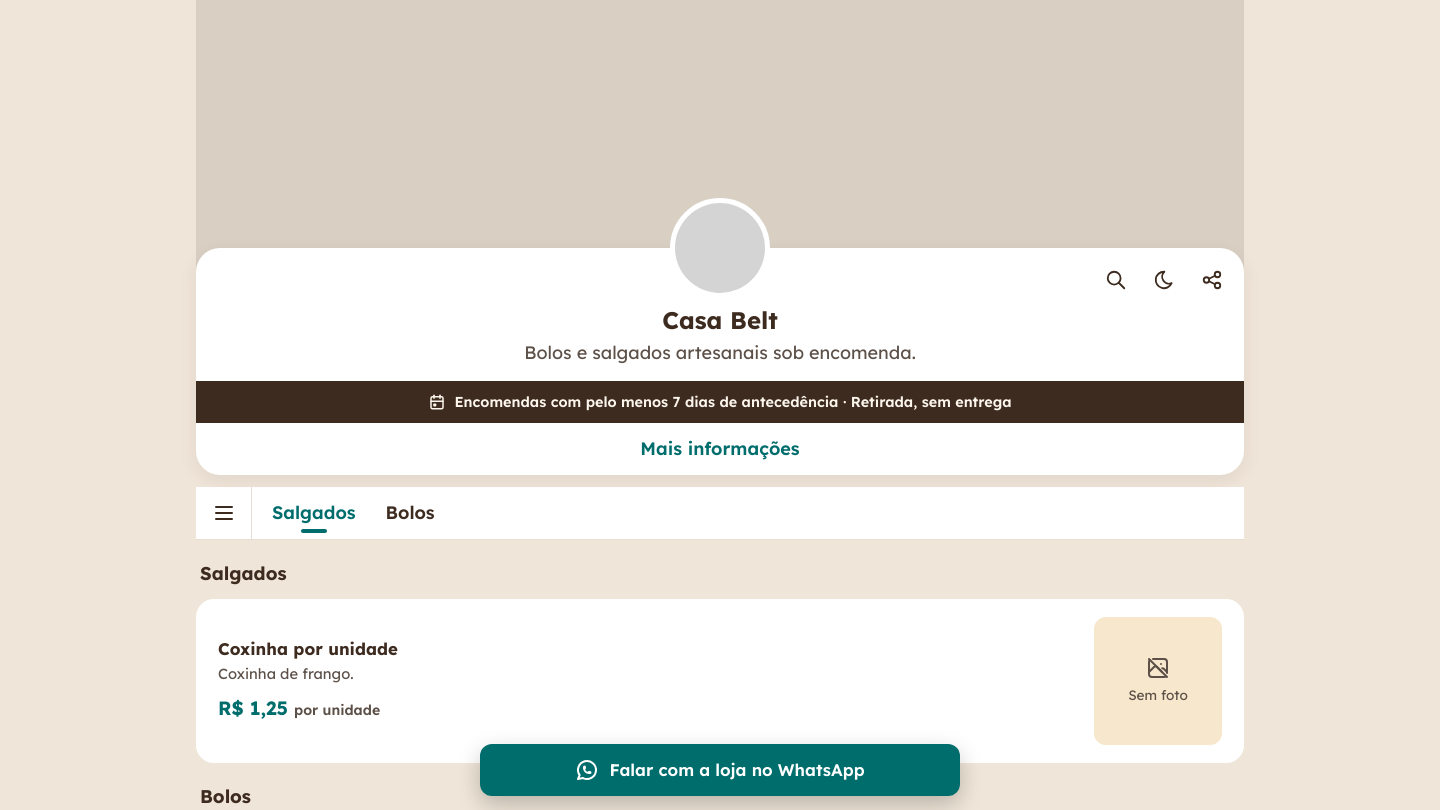
Test: PaginaCardapio (ZAP-105) › seções, abas e janela "Categorias" seguem as categorias do painel, na ordem da loja (ZAP-140)
Check: the heading "Casa Belt" is shown, box [662,305,778,335]
Click the button named "Ver todas as categorias".
click(224, 513)  # box [196,487,252,539]
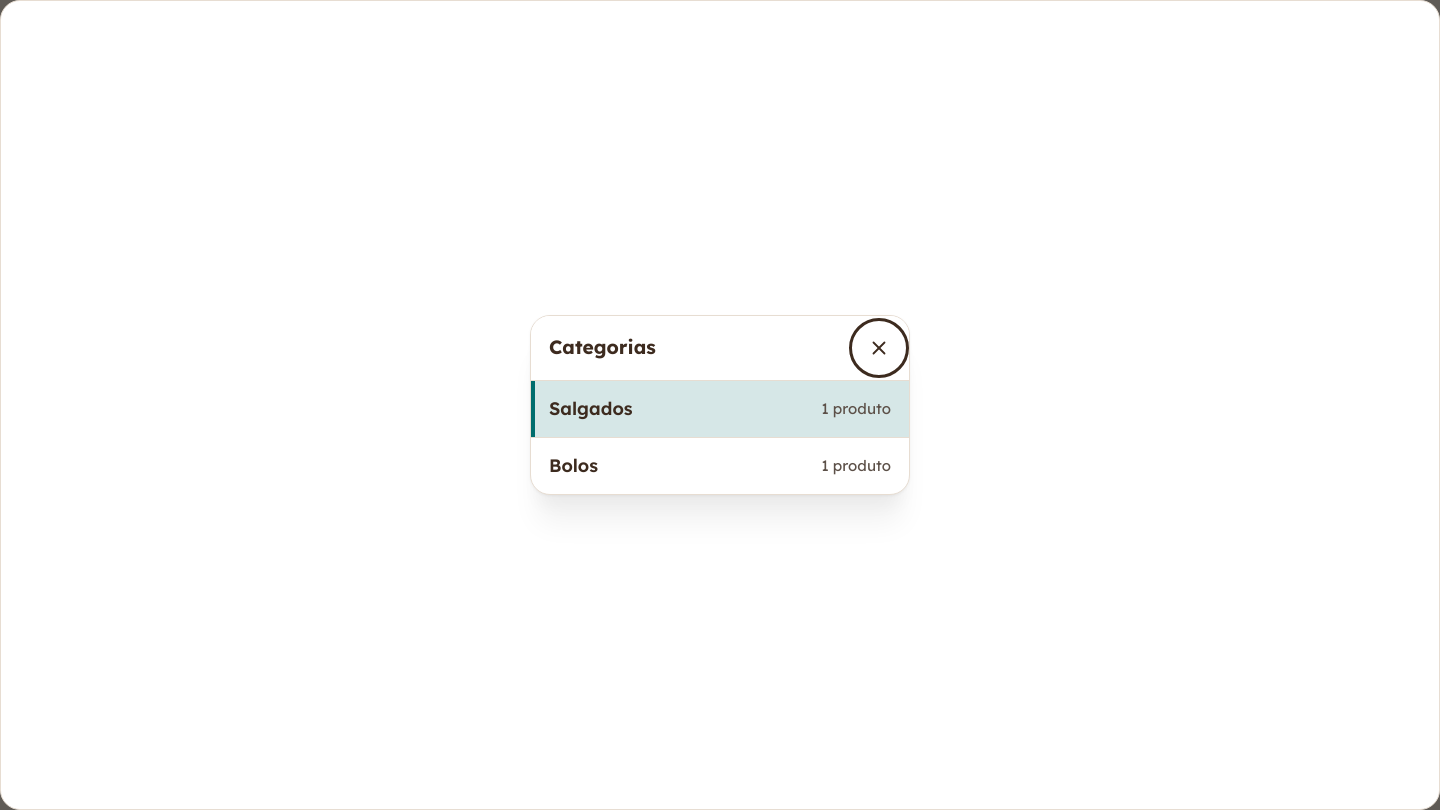
Check: the button "Salgados 1 produto" is shown, box [531,381,909,438]
Check: the button "Bolos 1 produto" is shown, box [531,438,909,494]
